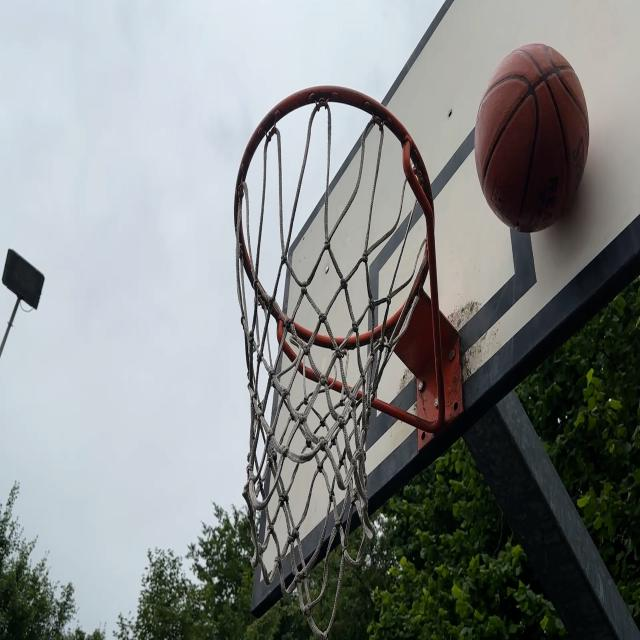rebound_hit: (476, 44, 592, 248)
